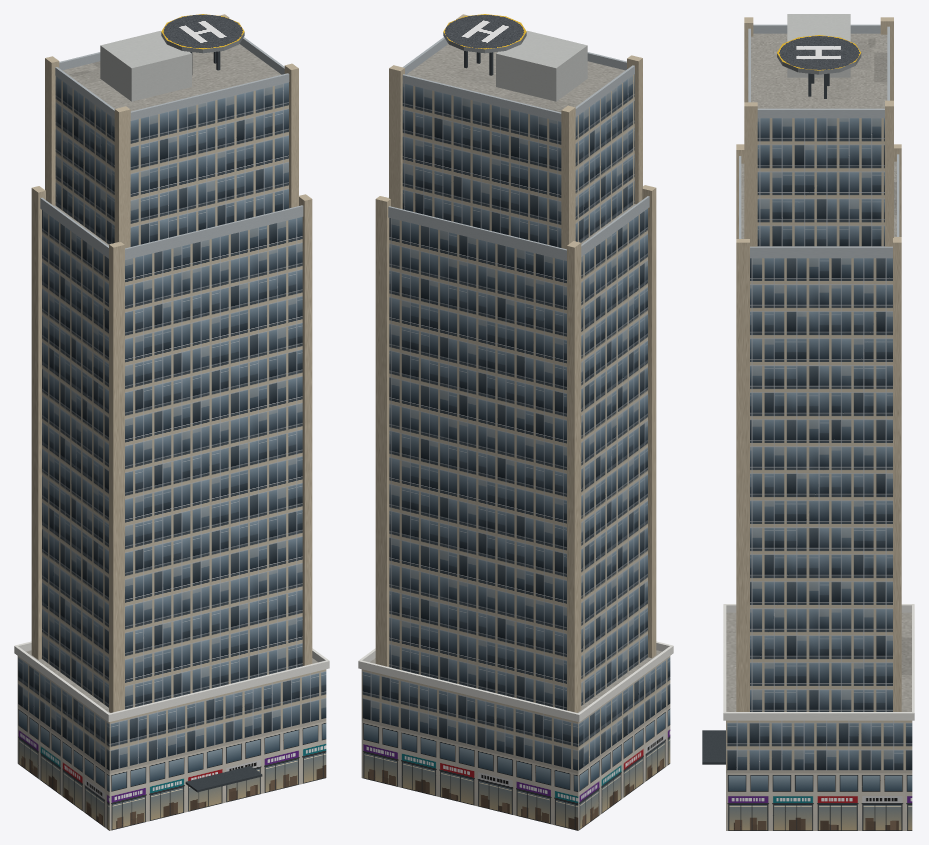
File: OW_CaoOc_VP_KhungDa_104.fbx
The picture shows the model from 3 angles, left to right: view 1: azimuth 30°, elevation 25°; view 2: azimuth 150°, elevation 25°; view 3: azimuth 270°, elevation 25°; orthographic projection.
Visible parts, largest first — view 1: OW_CaoOc_VP_KhungDa_104_LOD0; view 2: OW_CaoOc_VP_KhungDa_104_LOD0; view 3: OW_CaoOc_VP_KhungDa_104_LOD0.
Part boxes in pixels (box(x1,y1,x2,y2)): OW_CaoOc_VP_KhungDa_104_LOD0: box(14, 14, 329, 830); OW_CaoOc_VP_KhungDa_104_LOD0: box(358, 14, 673, 830); OW_CaoOc_VP_KhungDa_104_LOD0: box(702, 14, 914, 830).
Size of what is drawn, in the model's own units: 34.7 by 110 by 28.55.
